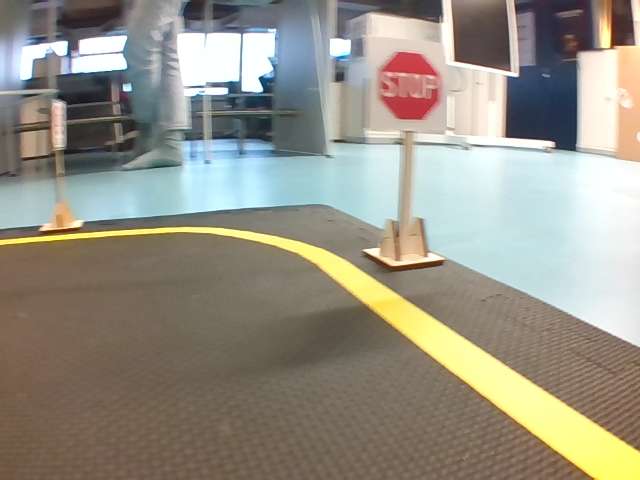stop: (364, 34, 447, 132)
